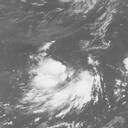cyclone: (15, 56, 79, 117)
